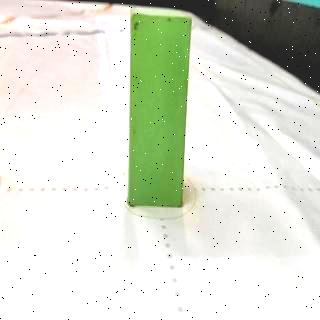greenbox: (126, 6, 193, 208)
